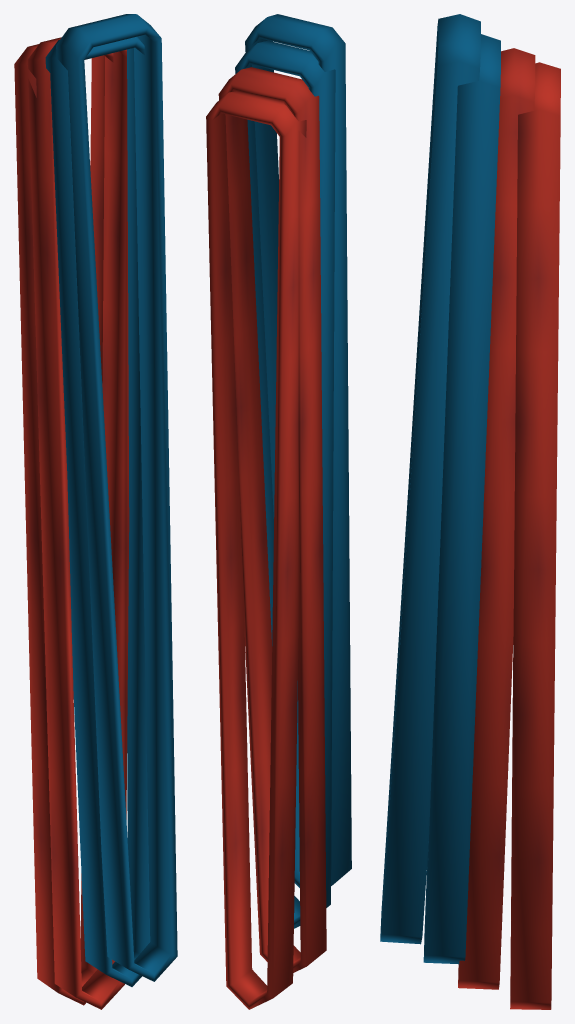
Rendered from band_3.glb.
The picture shows the model from 3 angles, left to right: view 1: azimuth 30°, elevation 25°; view 2: azimuth 150°, elevation 25°; view 3: azimuth 270°, elevation 25°; orthographic projection. The views are drawn at different scales.
Visible parts, largest first — view 1: GymEquipments_14; view 2: GymEquipments_14; view 3: GymEquipments_14.
Part boxes in pixels (<box>): GymEquipments_14: <box>14,14,177,1009</box>; GymEquipments_14: <box>206,14,351,1009</box>; GymEquipments_14: <box>380,14,560,1009</box>.
Bounding box in the file's own units: 0.0366 × 0.4168 × 0.0695.
Materials: 1 (1 with a texture image).
